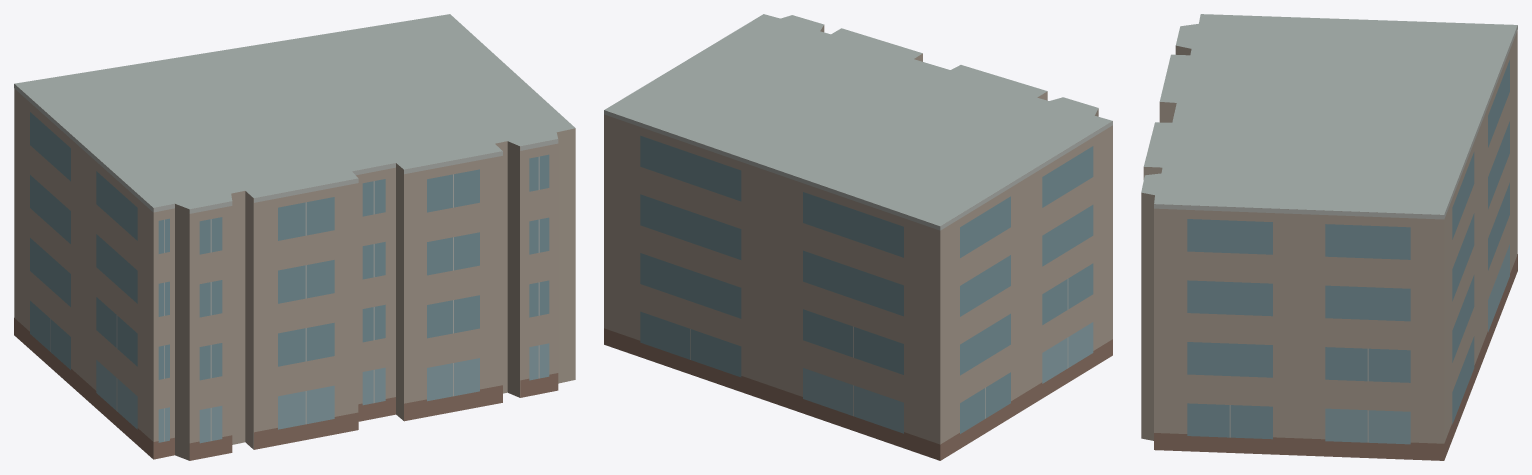
File: survey-upis-32496010.glb
3 renders of one model, left to right at view 1: azimuth 30°, elevation 25°; view 2: azimuth 150°, elevation 25°; view 3: azimuth 270°, elevation 25°, orthographic. The views are drawn at different scales.
Parts seen in each view (by area): view 1: survey-upis-32496010.tmp; view 2: survey-upis-32496010.tmp; view 3: survey-upis-32496010.tmp.
Part boxes in pixels (x1,y1,x2,y2): survey-upis-32496010.tmp: (14, 14, 575, 460); survey-upis-32496010.tmp: (604, 14, 1112, 460); survey-upis-32496010.tmp: (1141, 14, 1517, 460).
Size of the model in its own units: 23.14 by 13.2 by 18.33.
